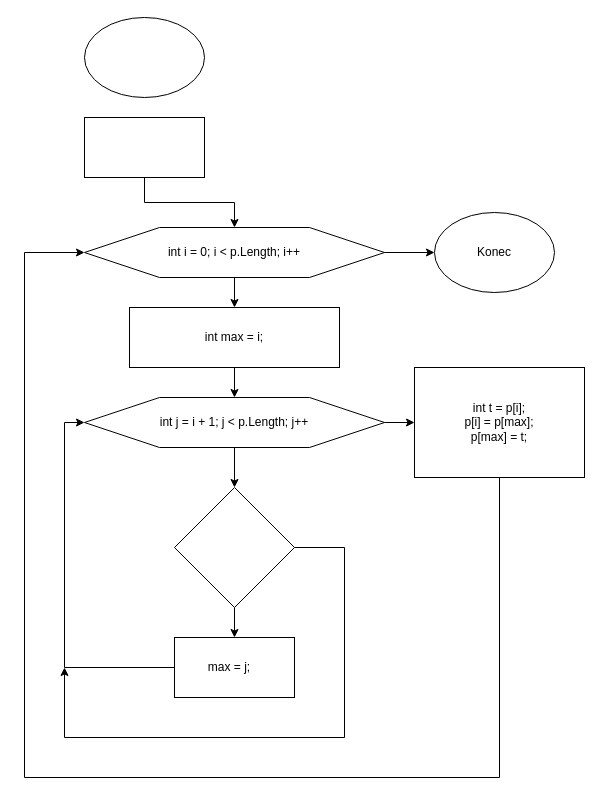
The diagram is 602 pixels wide and 803 high, and some of its shapes have lost their labels. The shapes that lost their labels are listed below. From the top down, each one's centre as x and y in pixels, then its label:
At [144,57]: "Start".
At [144,147]: "int[] p = {3,2,8,1}".
At [234,547]: "p[j] > p[max]".
